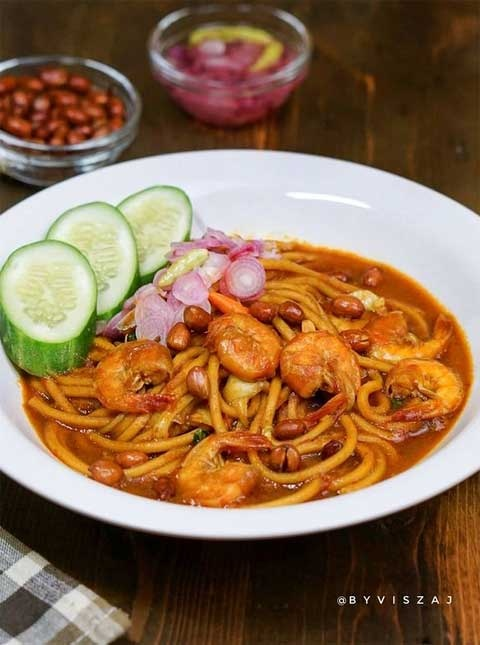mie_aceh: (42, 248, 475, 504)
